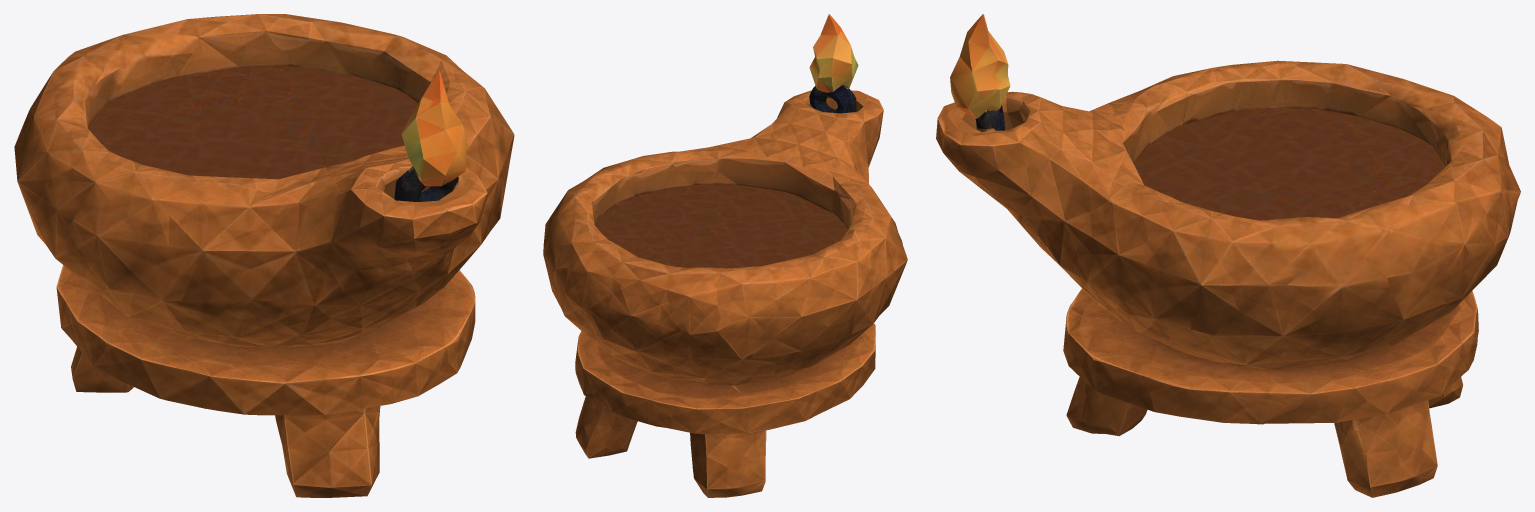
The model's file is lamp.glb.
3 renders of one model, left to right at view 1: azimuth 30°, elevation 25°; view 2: azimuth 150°, elevation 25°; view 3: azimuth 270°, elevation 25°, orthographic. The views are drawn at different scales.
Size of the model in its own units: 1.5 by 1.52 by 1.9.
1 material, 1 textured.
